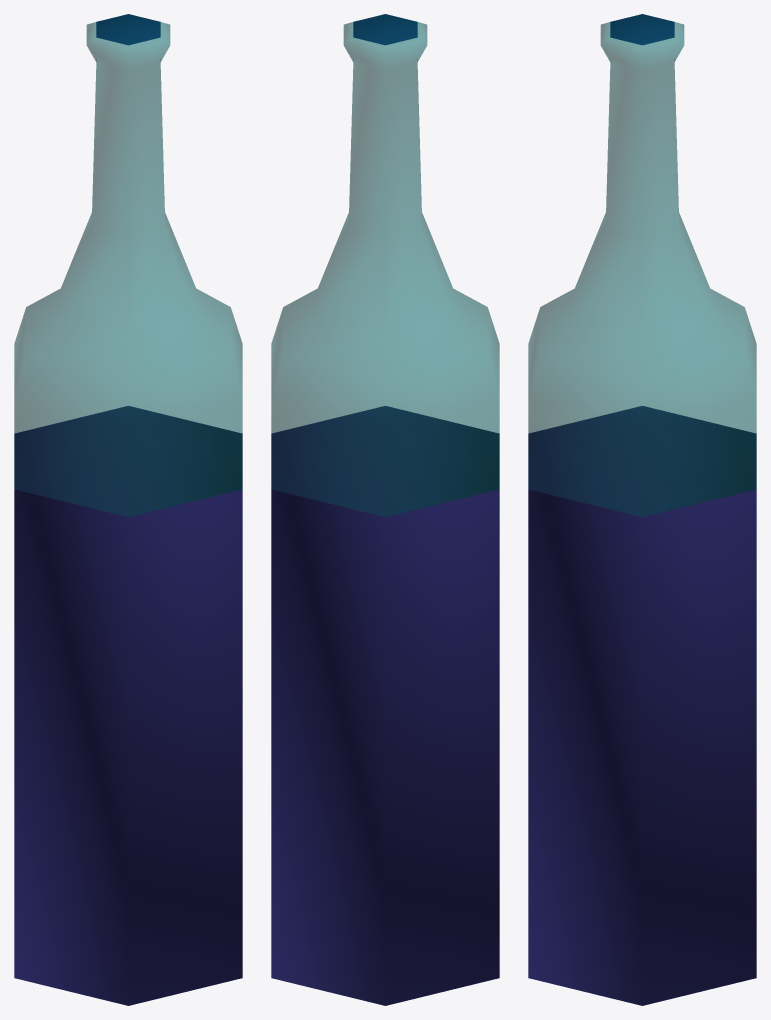
The model's file is Bottle_06.glb.
The picture shows the model from 3 angles, left to right: view 1: azimuth 30°, elevation 25°; view 2: azimuth 150°, elevation 25°; view 3: azimuth 270°, elevation 25°; orthographic projection.
Visible parts, largest first — view 1: Bottle06; view 2: Bottle06; view 3: Bottle06.
Boxes of the visible parts, box(x1,y1,x2,y2) form: Bottle06: box(14, 14, 242, 1005); Bottle06: box(271, 14, 499, 1005); Bottle06: box(528, 14, 756, 1005).
Size of the model in its own units: 0.0874 by 0.3365 by 0.0757.
Materials: 2 (2 with a texture image).
